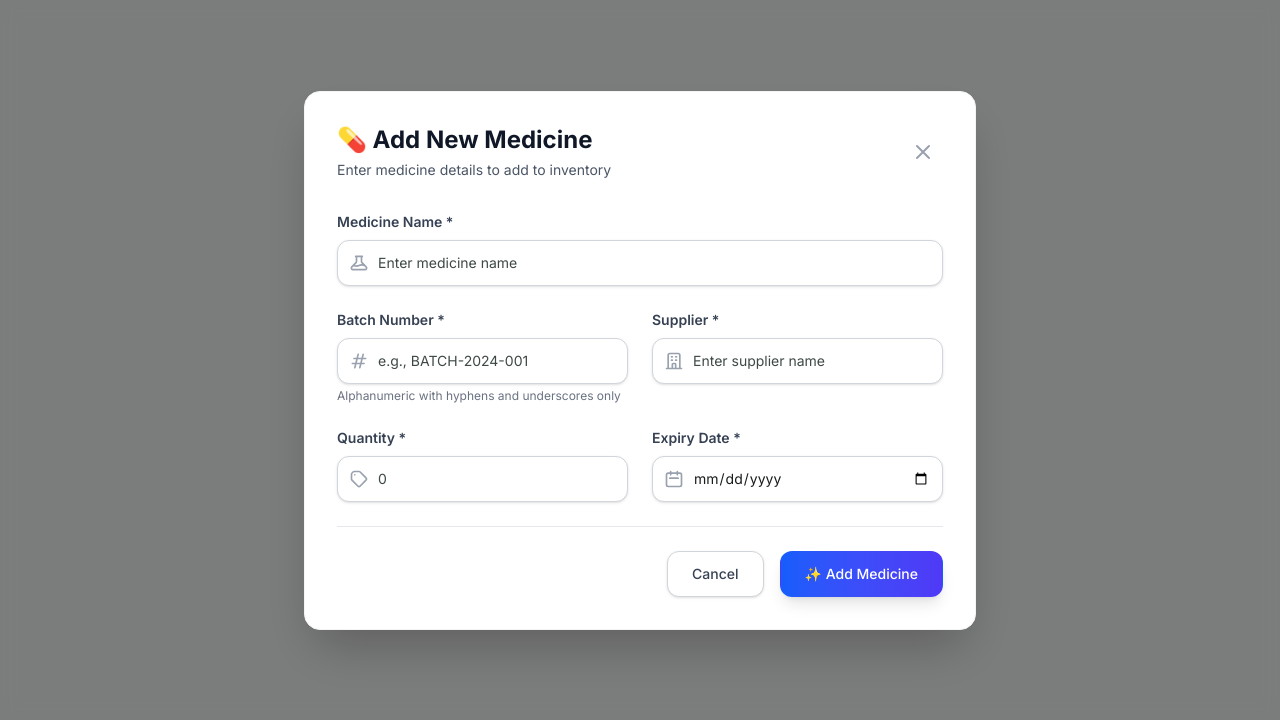
Test: MedicineForm › Validation › should show error when name is empty
Click the button "✨ Add Medicine" at [861, 574], box [780,550,943,596]
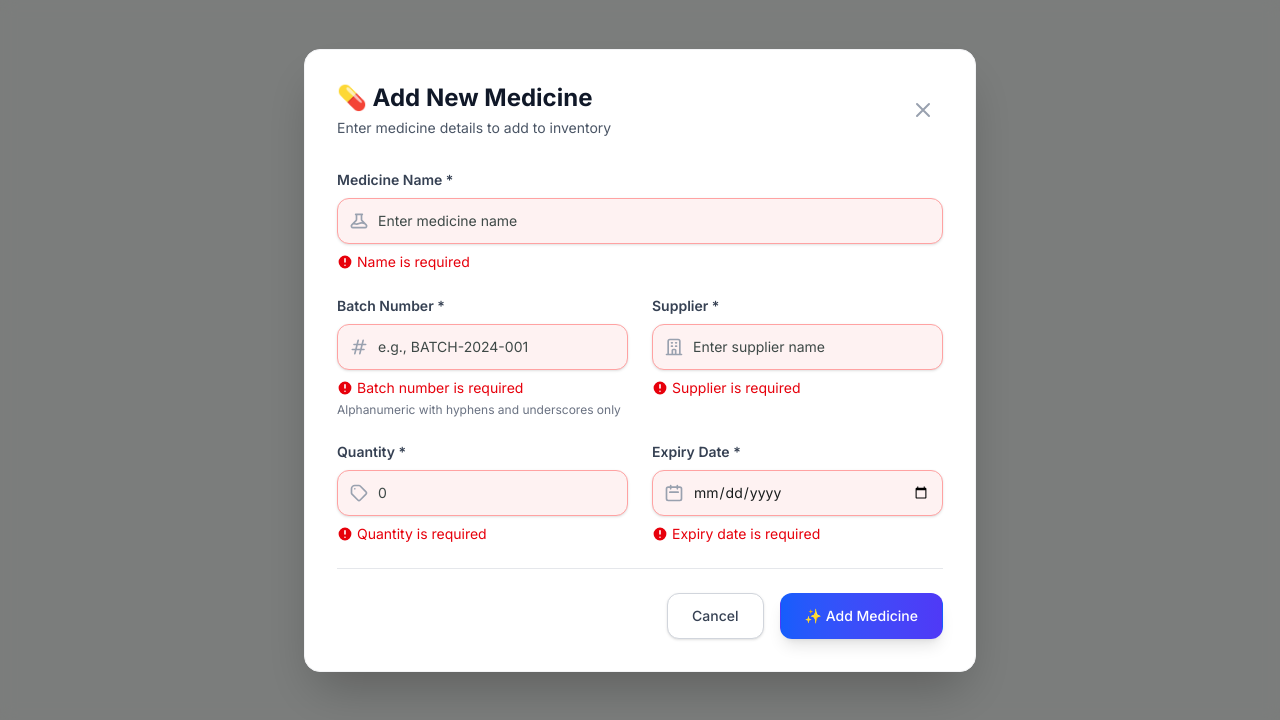
Result: the text "Name is required" is shown at [337,252,470,270]
